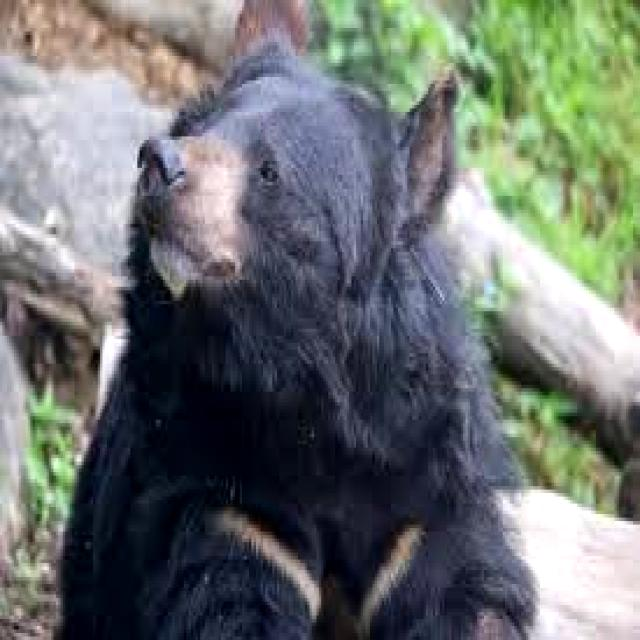bear: (132, 54, 462, 597)
